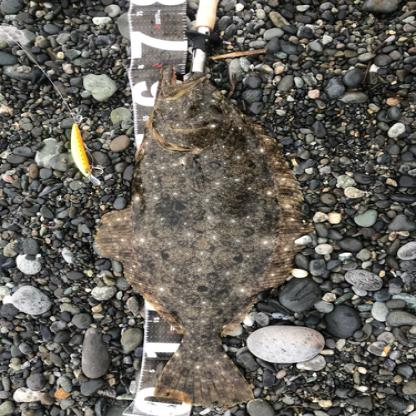flounder: (85, 68, 326, 410)
